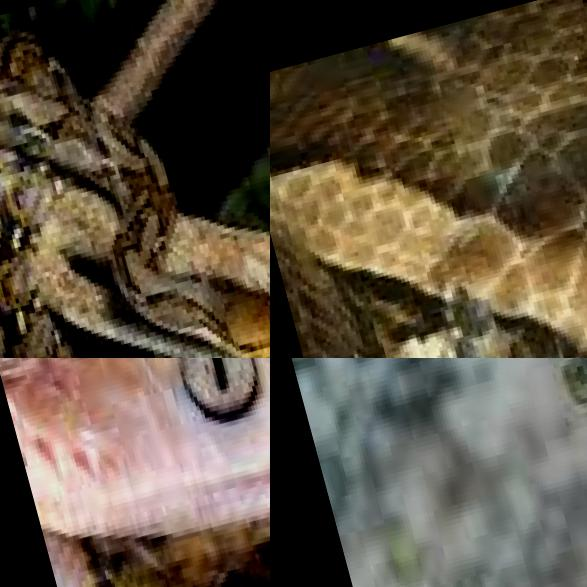2: (501, 358, 587, 587)
3: (0, 0, 270, 358), (0, 358, 270, 587)
snake: (270, 0, 587, 358)
